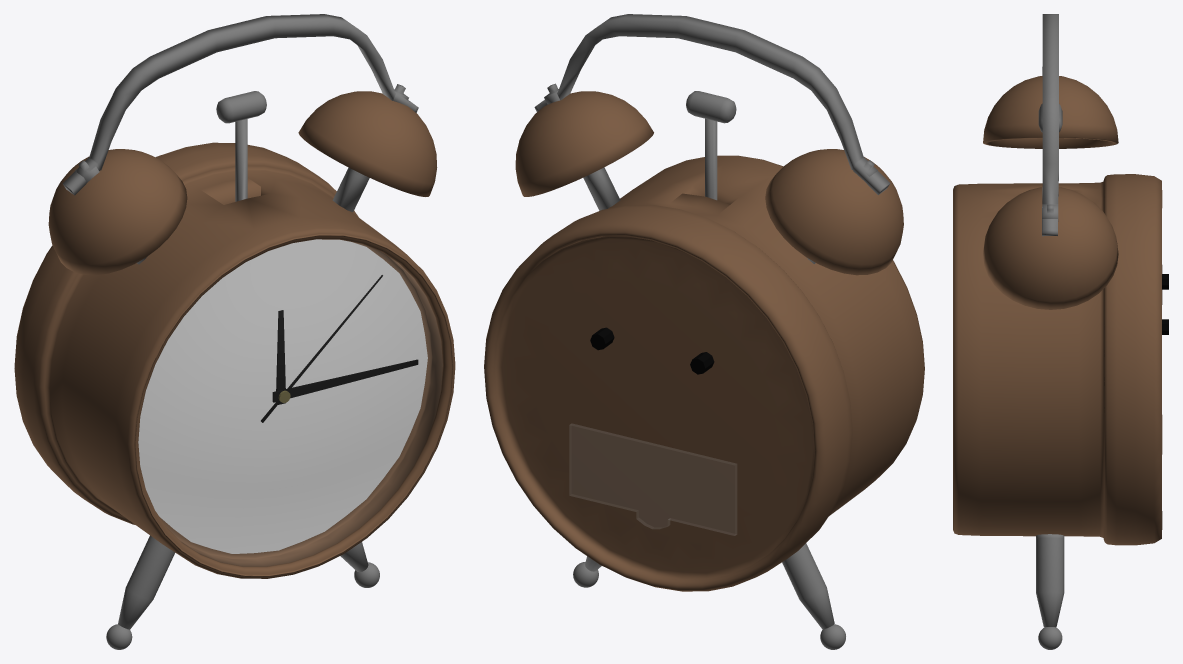
The model's file is uploads_files_2961044_clock.dae.
3 renders of one model, left to right at view 1: azimuth 30°, elevation 25°; view 2: azimuth 150°, elevation 25°; view 3: azimuth 270°, elevation 25°, orthographic. The views are drawn at different scales.
Parts seen in each view (by area): view 1: Object, Sphere.001, Sphere, Cube.002, Cylinder.002, Cube.003, Cube.005, Cube.001, Cylinder.001, Cube.004; view 2: Object, Sphere.001, Object.001, Sphere, Cube.002, Cylinder.002, Cube.003, Cube.001; view 3: Object, Sphere, Sphere.001, Cube.002, Cylinder.001.
Boxes of the visible parts, x1,y1,x2,y2 form: Object: (14, 142, 455, 578); Sphere.001: (48, 149, 187, 275); Sphere: (298, 91, 437, 196); Cube.002: (62, 14, 418, 195); Cylinder.002: (106, 535, 174, 649); Cube.003: (216, 91, 266, 201); Cube.005: (272, 359, 418, 402); Cube.001: (332, 84, 408, 212); Cylinder.001: (340, 542, 379, 587); Cube.004: (276, 310, 285, 404); Object: (484, 155, 924, 591); Sphere.001: (765, 149, 903, 275); Object.001: (570, 424, 736, 535); Sphere: (515, 91, 653, 196); Cube.002: (534, 14, 890, 195); Cylinder.002: (782, 543, 845, 649); Cube.003: (686, 91, 736, 200); Cube.001: (544, 83, 620, 210); Object: (953, 174, 1162, 545); Sphere: (983, 187, 1118, 309); Sphere.001: (983, 76, 1118, 148); Cube.002: (1042, 14, 1058, 236); Cylinder.001: (1036, 534, 1064, 649).
Bounding box in the file's own units: 2.2 × 1.2 × 3.38.
